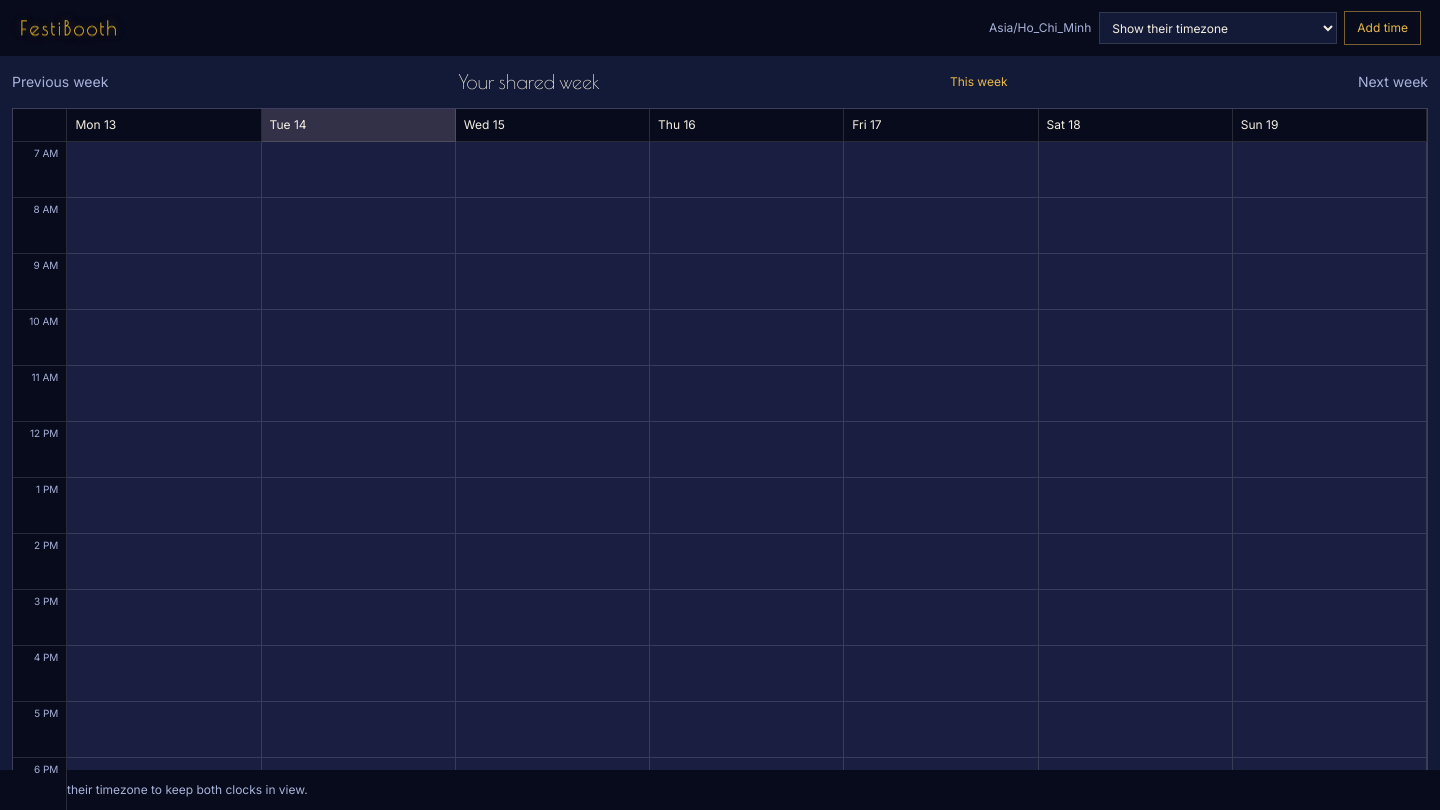
Scenario: CalendarClient › shows the companion's local time alongside the viewer's
Step 1. Select "Europe/London" in the dropdown named "Second timezone" → (1218, 28), box [1099,12,1337,44]
(page scrolled)
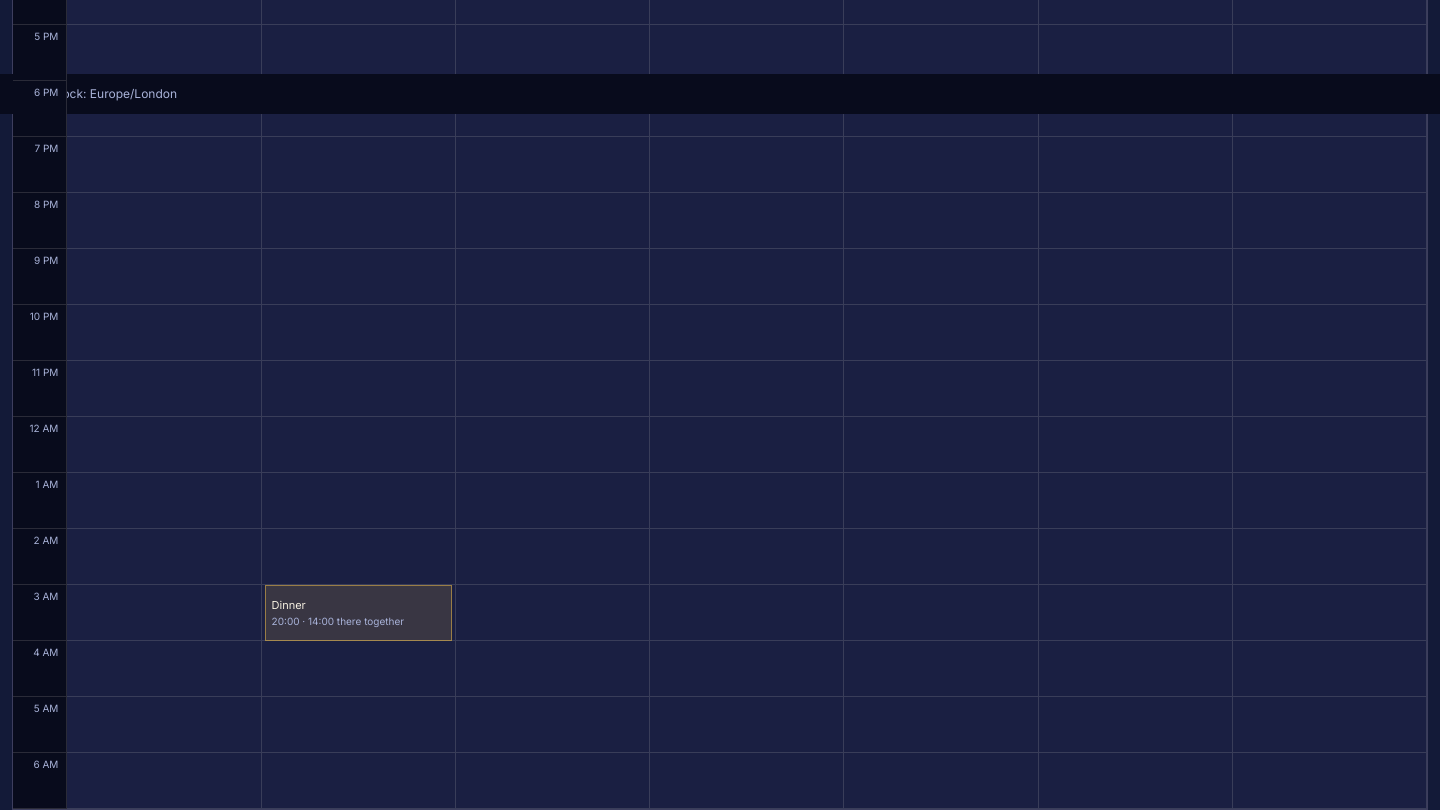
Expected: the text "20:00 · 14:00 there together" is shown, [272,615,404,627]
